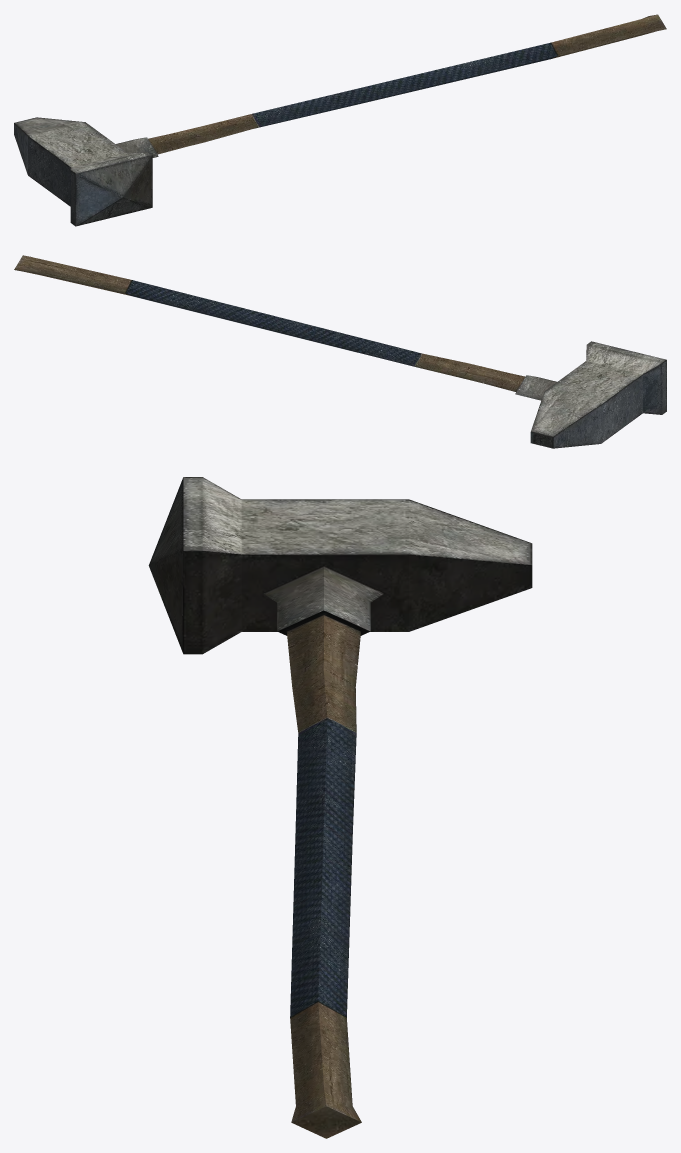
The model's file is KM_ITMW_1H_HAMMER_04.glb.
The picture shows the model from 3 angles, top to bottom: view 1: azimuth 30°, elevation 25°; view 2: azimuth 150°, elevation 25°; view 3: azimuth 270°, elevation 25°; orthographic projection. The views are drawn at different scales.
Parts seen in each view (by area): view 1: KM_ITMW_1H_HAMMER_04; view 2: KM_ITMW_1H_HAMMER_04; view 3: KM_ITMW_1H_HAMMER_04.
Boxes of the visible parts, <box> form: KM_ITMW_1H_HAMMER_04: <box>14,14,666,226</box>; KM_ITMW_1H_HAMMER_04: <box>14,255,666,448</box>; KM_ITMW_1H_HAMMER_04: <box>148,477,532,1138</box>.
Bounding box in the file's own units: 1.16 × 0.0939 × 0.3155.
1 material, 1 textured.
